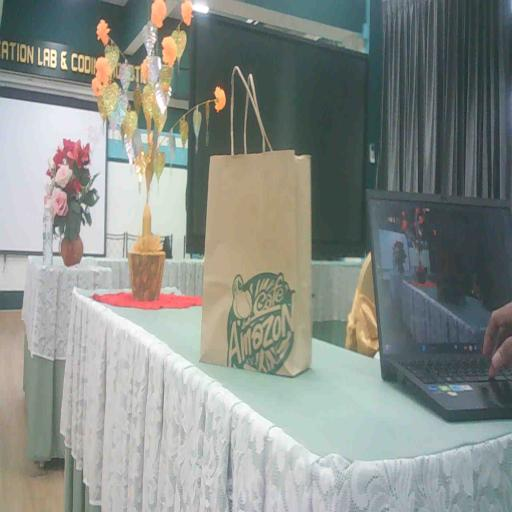bag: (192, 135, 322, 392)
